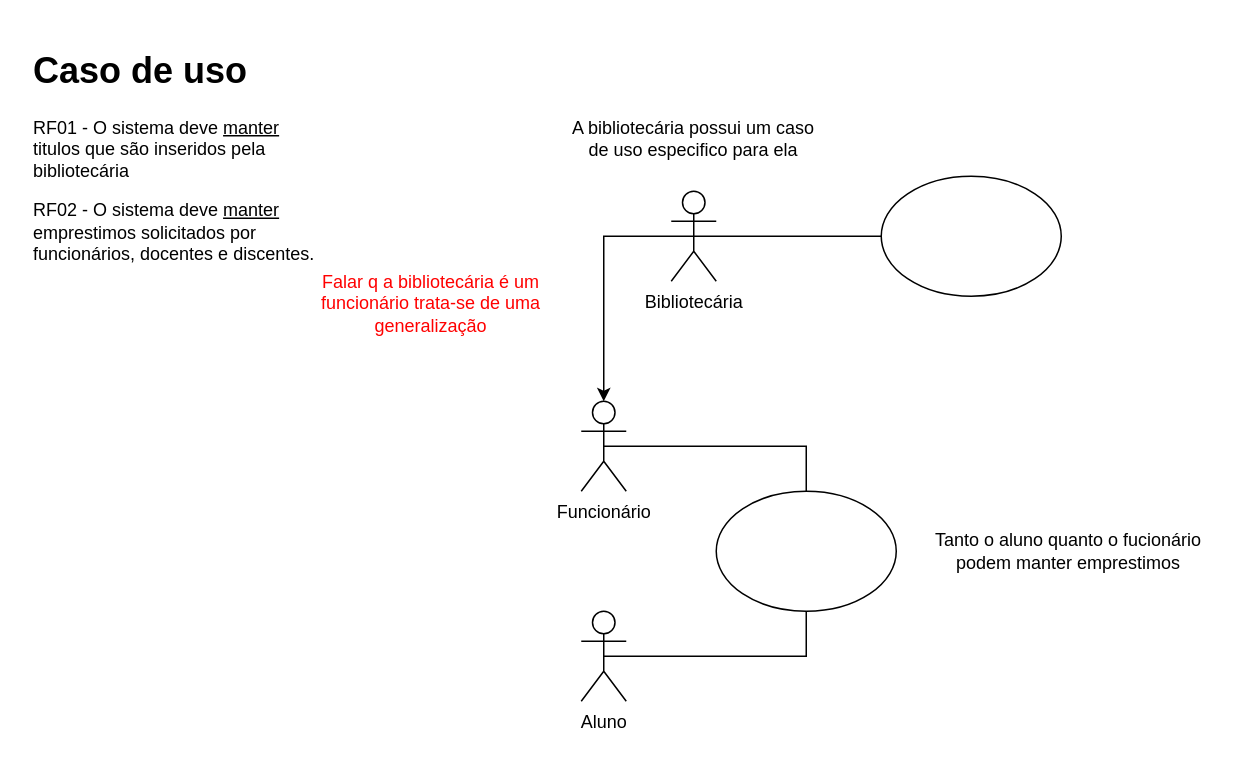
The diagram is 1236 pixels wide and 758 high, and some of its shapes have lost their labels. Each missing label, with the centre of its shape:
Manter empréstimos: [805,550]
Manter titulos: [970,235]
